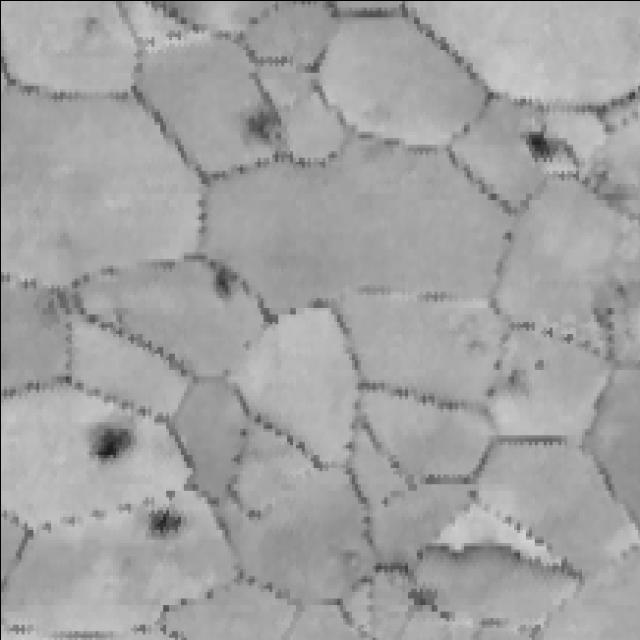good_void: (130, 495, 190, 550), (513, 128, 570, 175), (238, 100, 281, 142), (91, 421, 129, 467), (202, 261, 233, 296), (76, 8, 102, 42), (406, 582, 439, 607), (506, 368, 523, 388), (486, 380, 502, 401), (488, 354, 506, 370), (531, 355, 547, 372)
